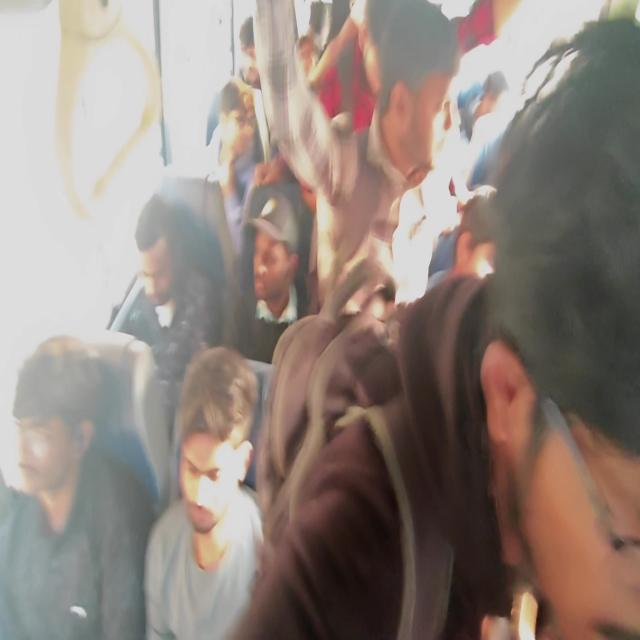person: (512, 98, 640, 640), (156, 337, 305, 640), (0, 328, 138, 611), (345, 15, 460, 175), (445, 175, 534, 292), (124, 206, 204, 320), (481, 58, 524, 154), (295, 23, 348, 96), (206, 91, 254, 168), (250, 202, 286, 301), (239, 29, 287, 86)
